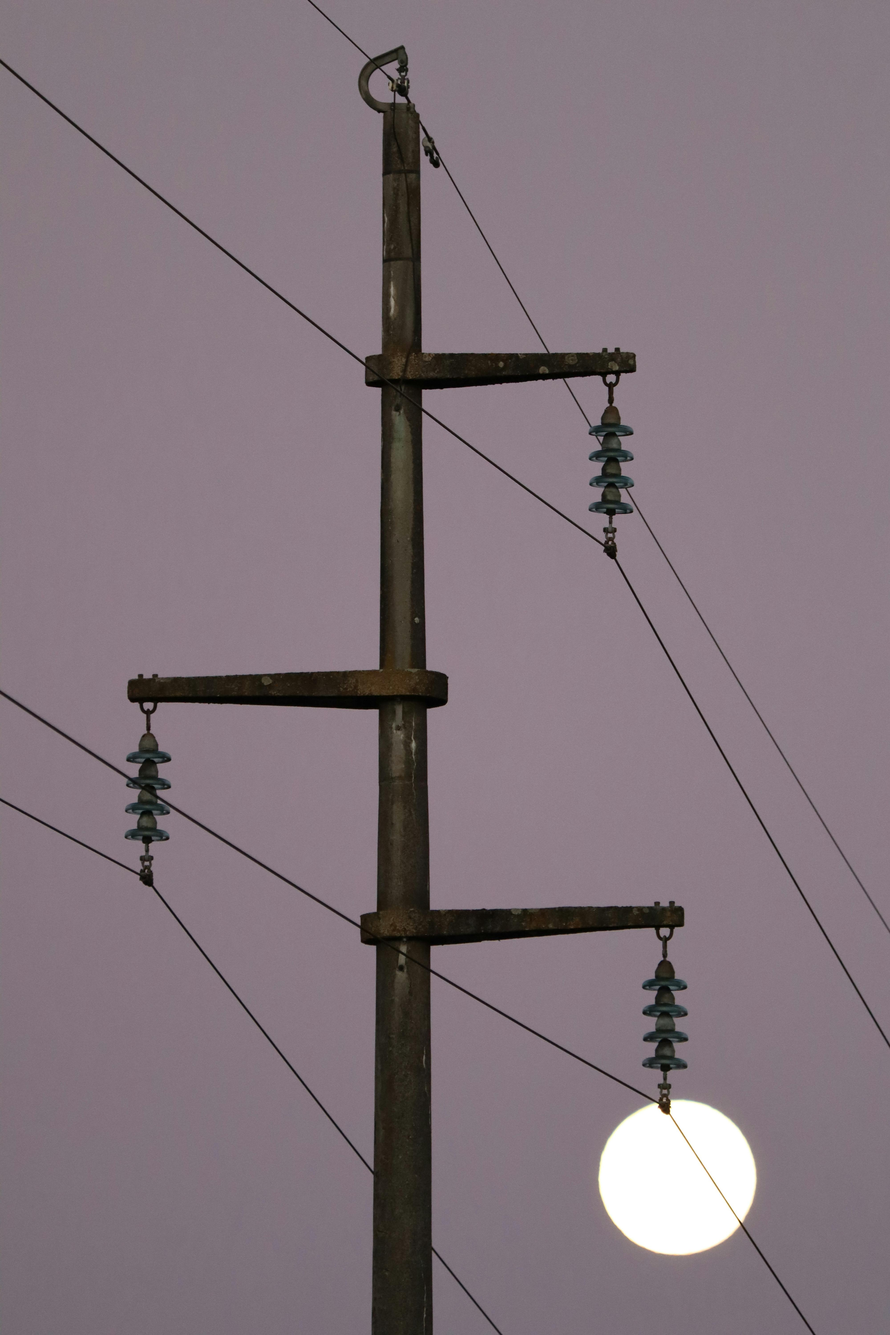insulator: (114, 720, 193, 871), (581, 385, 641, 556), (630, 955, 691, 1085)
